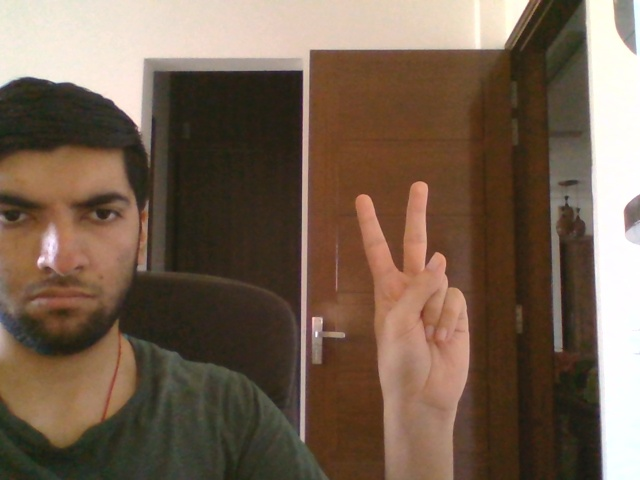LetterK: (354, 181, 470, 418)
